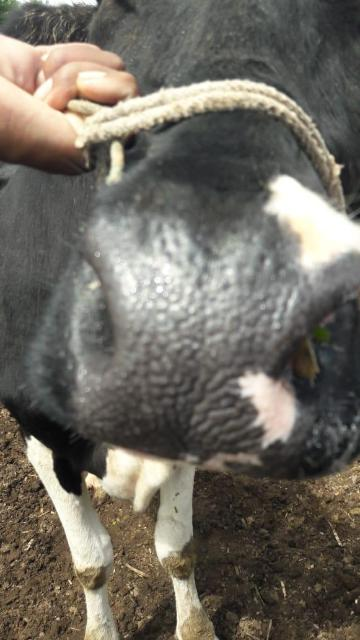Muzzle: (109, 229, 263, 449)
